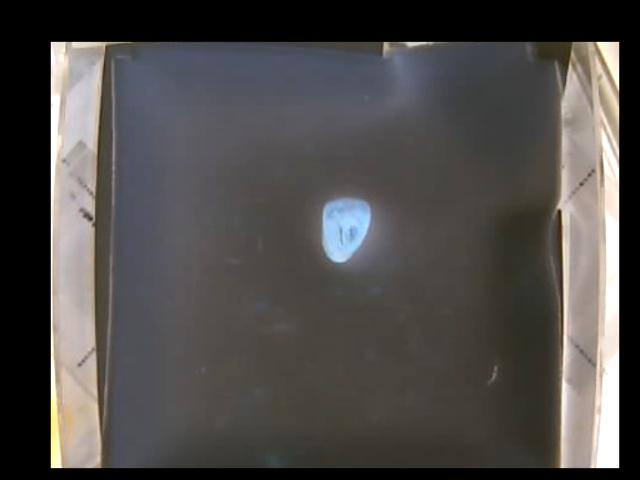Pebble: (323, 199, 369, 262)
